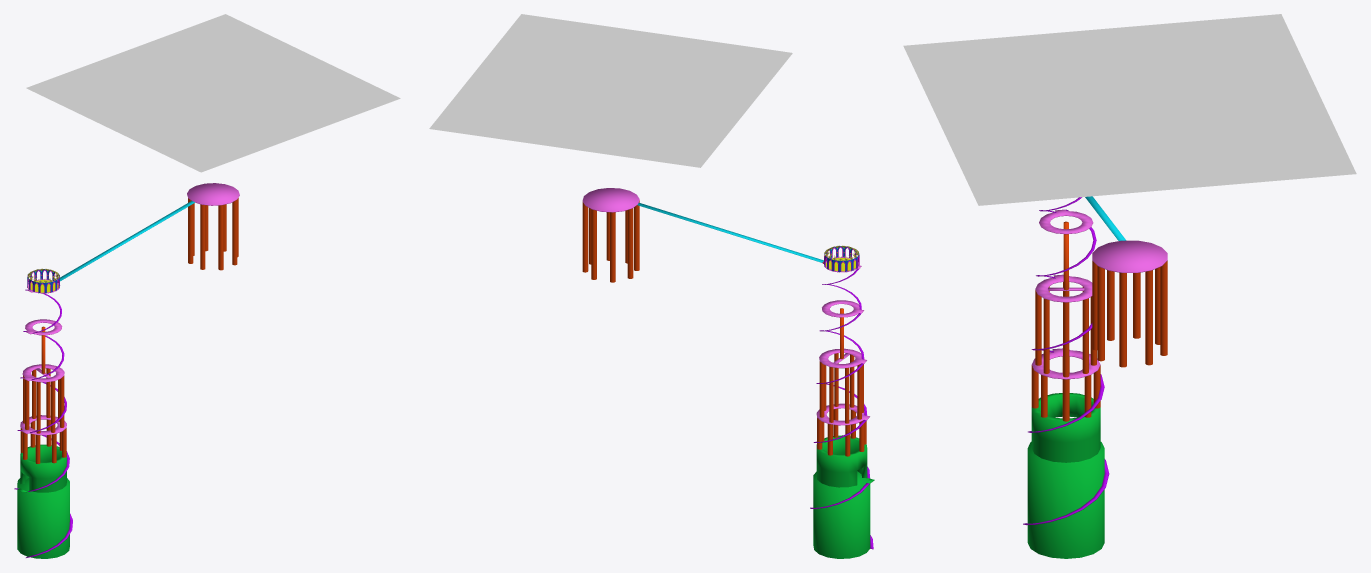
Rendered from tou2.fbx.
The picture shows the model from 3 angles, left to right: view 1: azimuth 30°, elevation 25°; view 2: azimuth 150°, elevation 25°; view 3: azimuth 270°, elevation 25°; orthographic projection. The views are drawn at different scales.
Parts seen in each view (by area): view 1: mahouzin, naka1, hasira2, tennbann2, rasen1, saka; view 2: mahouzin, naka1, hasira2, tennbann2, rasen1, saka; view 3: mahouzin, naka1, hasira2, tennbann2, rasen1.
Part boxes in pixels (left/top/right/bottom): mahouzin: left=26, top=14, right=400, bottom=172; naka1: left=17, top=444, right=69, bottom=558; hasira2: left=20, top=198, right=238, bottom=463; tennbann2: left=20, top=183, right=239, bottom=435; rasen1: left=14, top=289, right=72, bottom=557; saka: left=60, top=201, right=194, bottom=281; mahouzin: left=429, top=14, right=792, bottom=167; naka1: left=813, top=435, right=874, bottom=558; hasira2: left=582, top=200, right=866, bottom=456; tennbann2: left=582, top=188, right=869, bottom=425; rasen1: left=810, top=268, right=873, bottom=549; saka: left=637, top=202, right=823, bottom=262; mahouzin: left=903, top=14, right=1356, bottom=205; naka1: left=1027, top=393, right=1104, bottom=558; hasira2: left=1031, top=221, right=1167, bottom=421; tennbann2: left=1031, top=209, right=1167, bottom=379; rasen1: left=1023, top=197, right=1109, bottom=525.
Size of the model in its own units: 1533 by 1630 by 1176.
